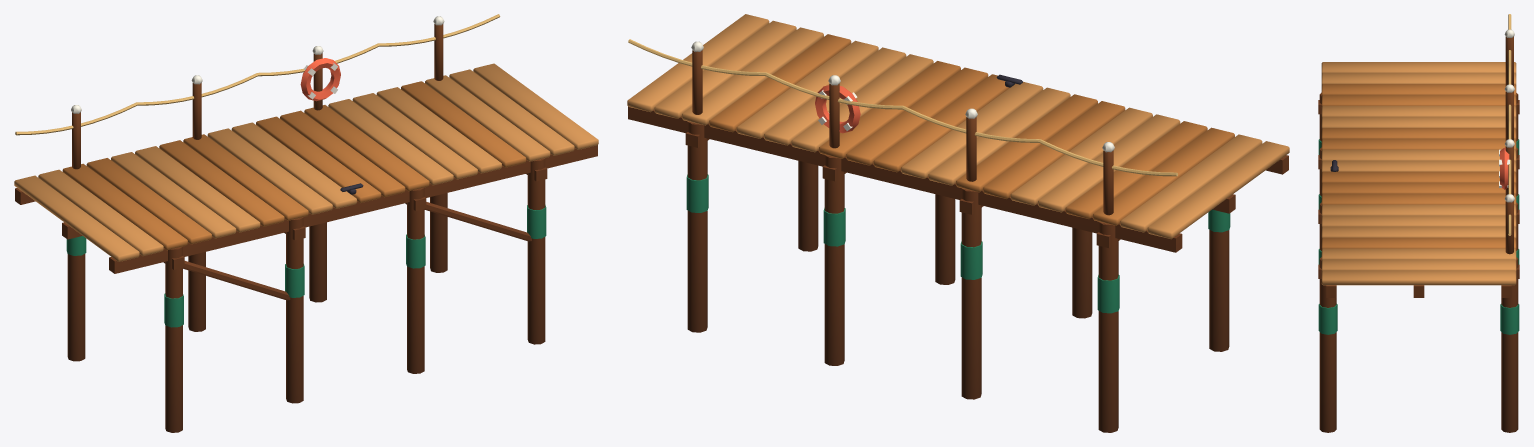
The model's file is pier.glb.
The picture shows the model from 3 angles, left to right: view 1: azimuth 30°, elevation 25°; view 2: azimuth 150°, elevation 25°; view 3: azimuth 270°, elevation 25°; orthographic projection. The views are drawn at different scales.
Parts seen in each view (by area): view 1: pier; view 2: pier; view 3: pier.
Part boxes in pixels (x1,y1,x2,y2): pier: (14, 14, 598, 432); pier: (627, 14, 1289, 432); pier: (1318, 14, 1519, 432).
Size of the model in its own units: 8.01 by 4 by 3.1.
